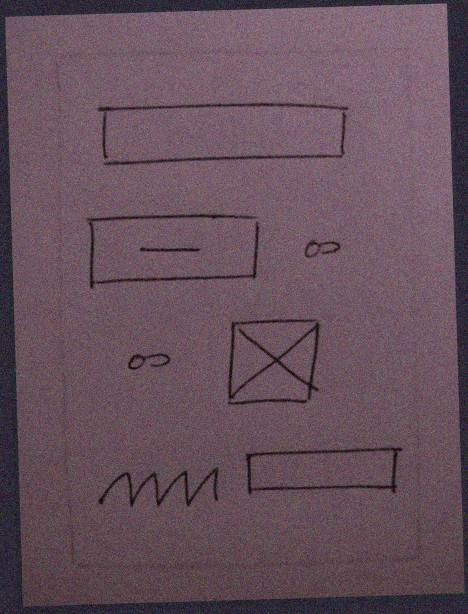button: (78, 205, 266, 291)
image: (215, 309, 323, 410)
switch: (119, 338, 181, 381), (293, 228, 348, 268)
text: (92, 457, 228, 516)
text_input: (90, 91, 357, 177), (241, 442, 411, 504)
